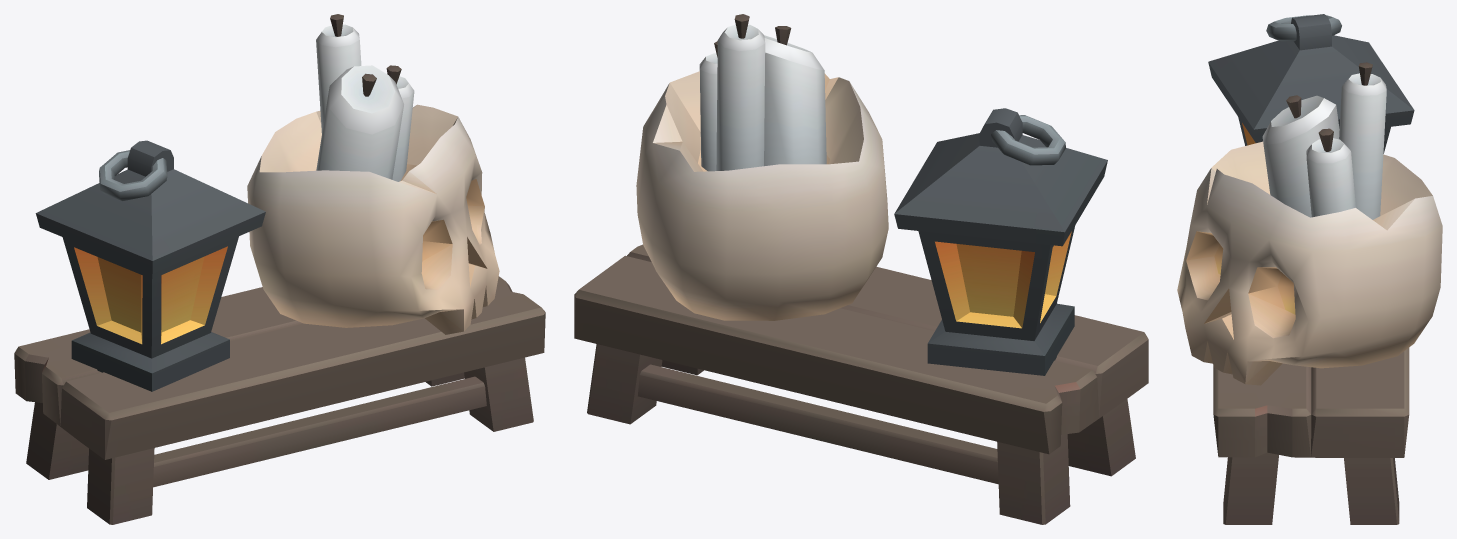
Rendered from bench_decorated.glb.
The picture shows the model from 3 angles, left to right: view 1: azimuth 30°, elevation 25°; view 2: azimuth 150°, elevation 25°; view 3: azimuth 270°, elevation 25°; orthographic projection. The views are drawn at different scales.
Parts seen in each view (by area): view 1: bench_decorated; view 2: bench_decorated; view 3: bench_decorated.
Part boxes in pixels (x1,y1,x2,y2): bench_decorated: (14, 14, 545, 524); bench_decorated: (574, 14, 1148, 524); bench_decorated: (1177, 14, 1442, 524).
Size of the model in its own units: 2 by 1.68 by 1.02.
Materials: 1 (1 with a texture image).
